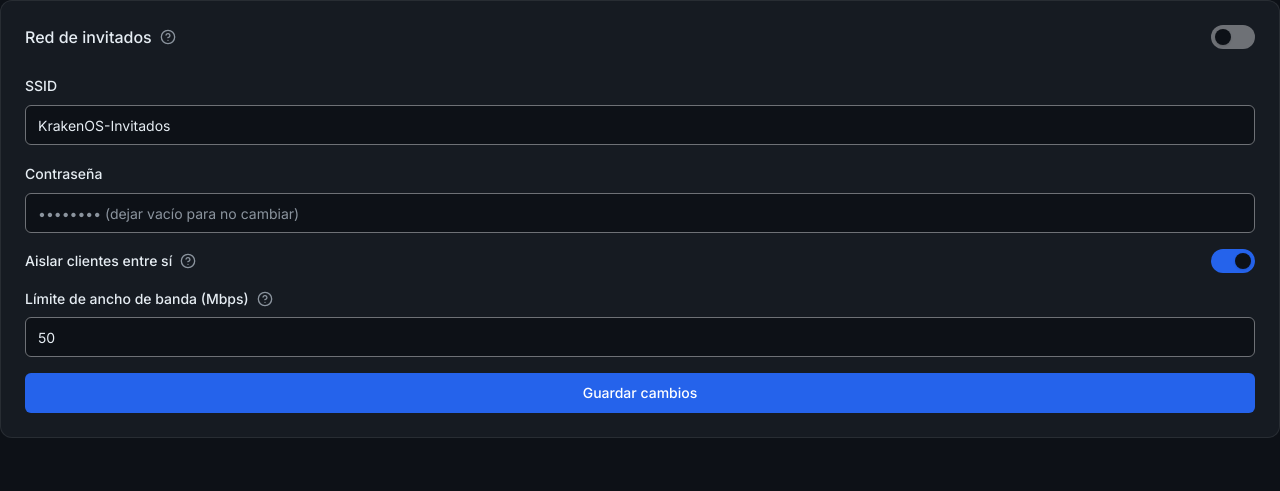
GuestNetworkCard › un rechazo sin mensaje se pinta con el texto base, no vacío
Click the button "Guardar cambios": (640, 393) [25,373,1255,413]
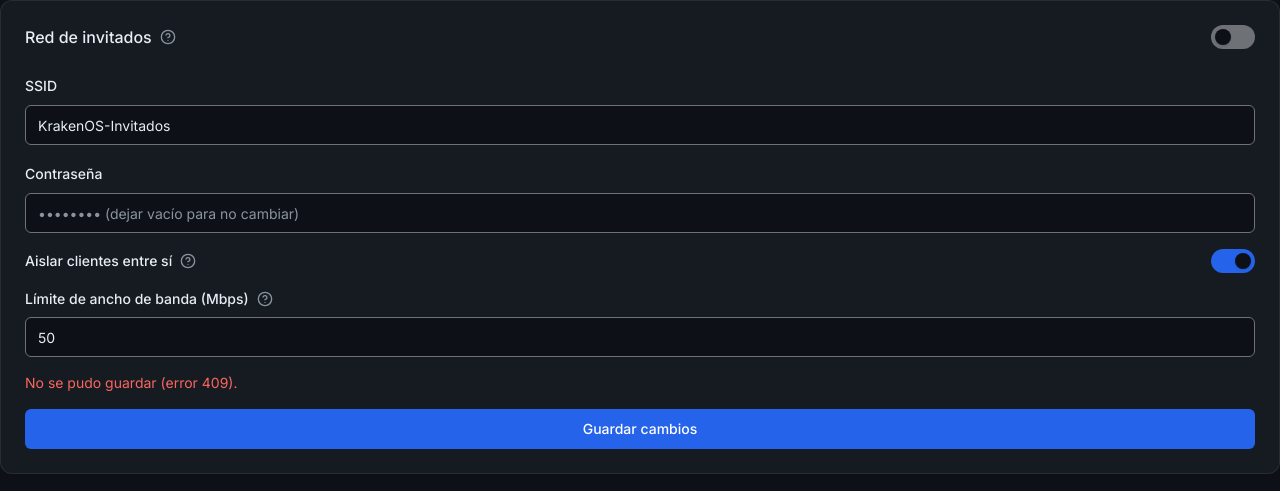
Expected: the message reads "No se pudo guardar (error 409).", [25,374,238,391]
